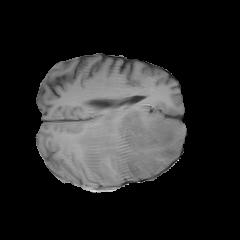glioma: (73, 108, 181, 183)
